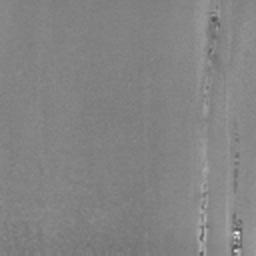Slag inclusion: (189, 0, 250, 256), (221, 78, 242, 195), (221, 206, 246, 256)
